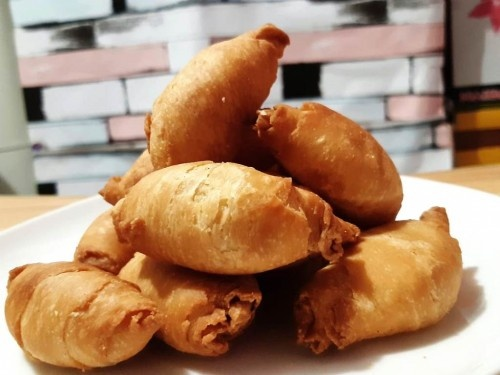pisang_molen: (112, 160, 355, 265), (297, 207, 464, 351), (148, 20, 289, 168), (5, 261, 163, 369)
